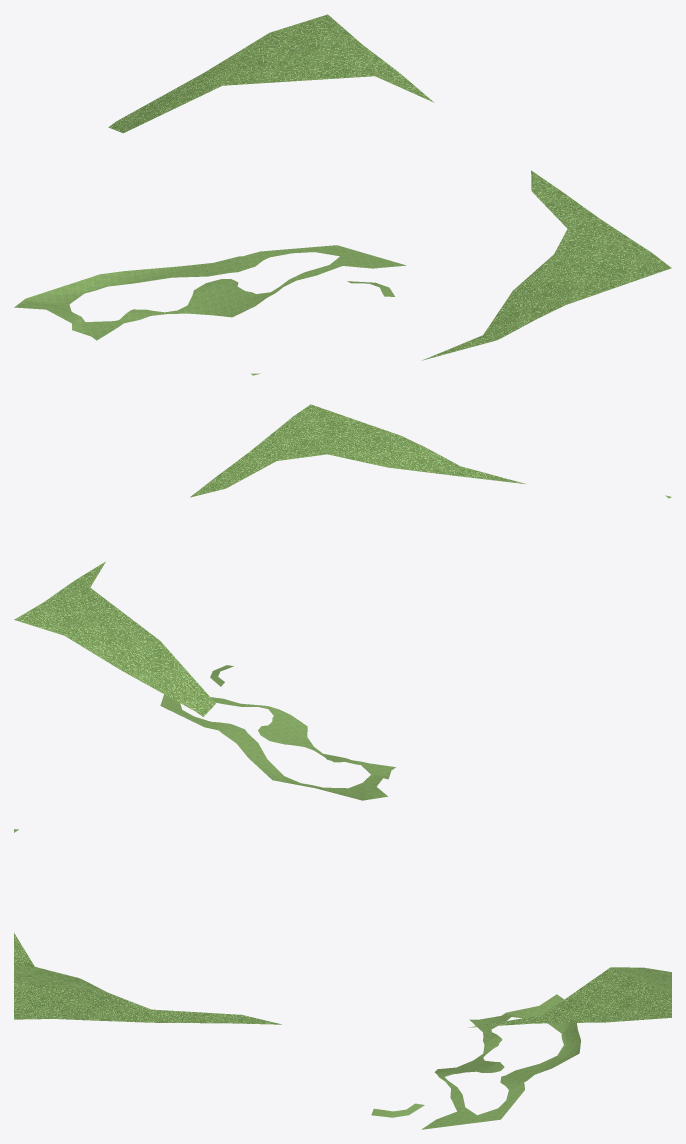
Rendered from kd_stage_136282_2_7_bounded.glb.
3 views of the same model, one above another, from view 1: azimuth 30°, elevation 25°; view 2: azimuth 150°, elevation 25°; view 3: azimuth 270°, elevation 25° (orthographic). The views are drawn at different scales.
Parts seen in each view (by area): view 1: kd_stage_136282_2_7_bounded; view 2: kd_stage_136282_2_7_bounded; view 3: kd_stage_136282_2_7_bounded.
Part boxes in pixels (x1,y1,x2,y2): kd_stage_136282_2_7_bounded: [14, 14, 671, 375]; kd_stage_136282_2_7_bounded: [14, 404, 671, 800]; kd_stage_136282_2_7_bounded: [14, 829, 671, 1129].
Bounding box in the file's own units: 149 × 56.52 × 212.
1 material, 1 textured.
